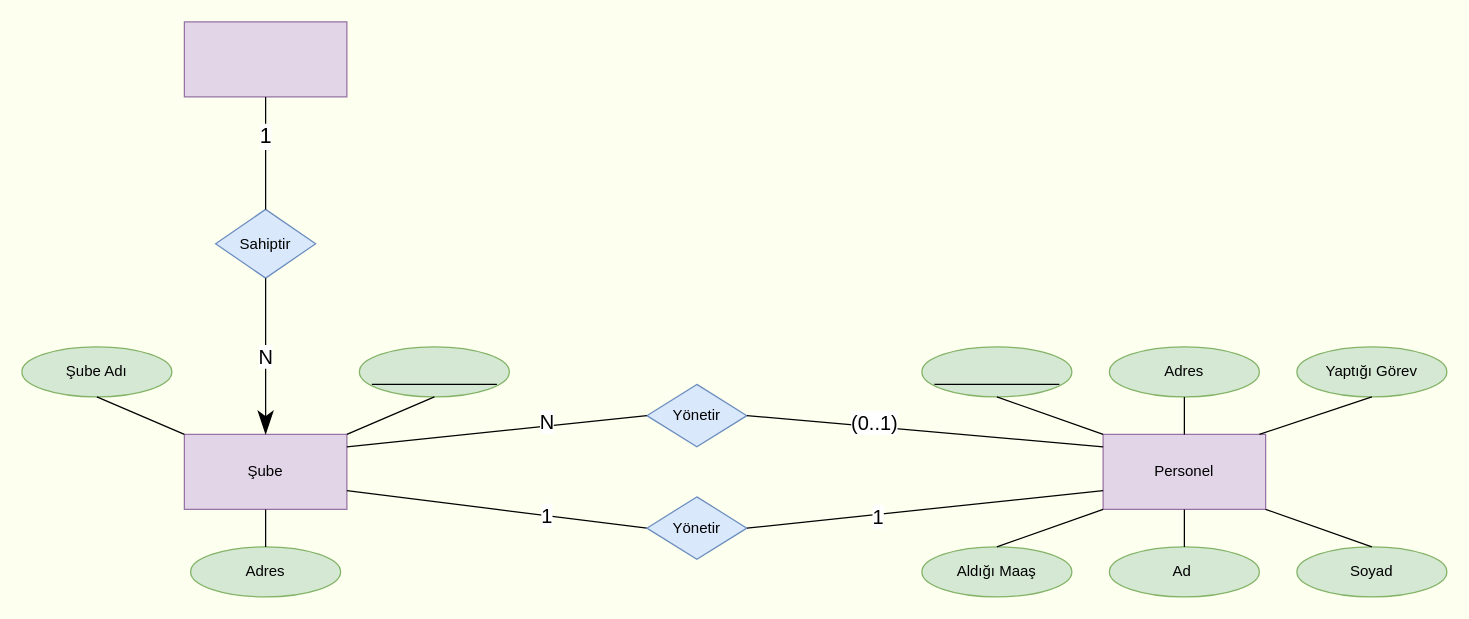
The diagram is 1469 pixels wide and 619 high, and some of its shapes have lost their labels. Each missing label, with the centre of its shape:
Numara: the point at 996,371
Şirket: the point at 265,59
Şube İD: the point at 433,371
